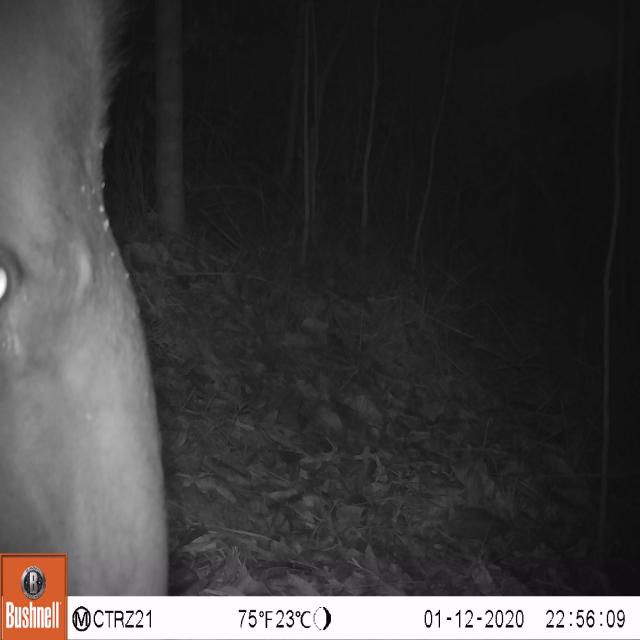Lowland Tapir: (0, 0, 178, 595)
